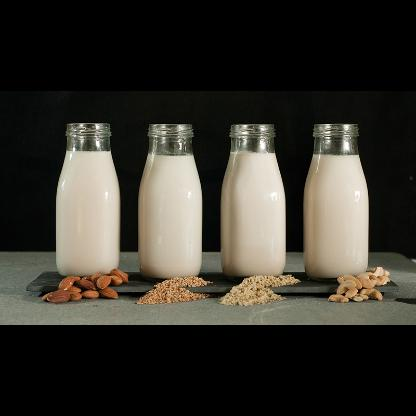milk: (136, 152, 204, 279), (219, 150, 286, 276), (54, 149, 122, 273), (302, 152, 368, 275)
